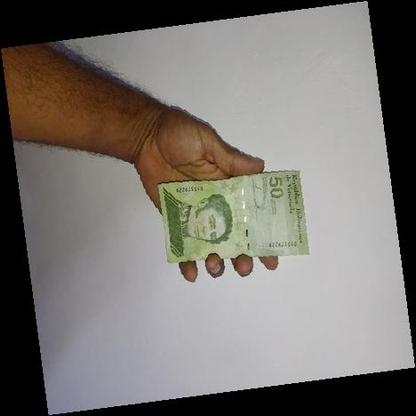fifty-front-vef: (157, 167, 310, 264)
